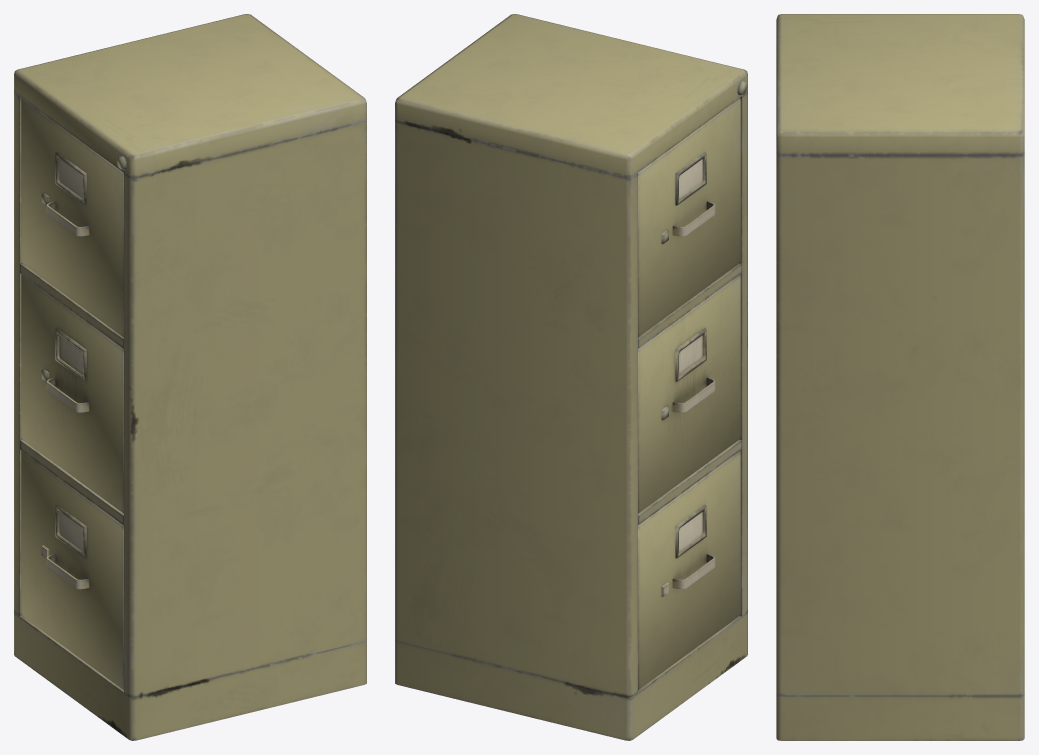
The model's file is SM_Filing_Cabinet_02a.fbx.
The picture shows the model from 3 angles, left to right: view 1: azimuth 30°, elevation 25°; view 2: azimuth 150°, elevation 25°; view 3: azimuth 270°, elevation 25°; orthographic projection. The views are drawn at different scales.
Parts seen in each view (by area): view 1: SM_Filing_Cabinet_02a_LOD0; view 2: SM_Filing_Cabinet_02a_LOD0; view 3: SM_Filing_Cabinet_02a_LOD0.
Part boxes in pixels (left/top/right/bottom): SM_Filing_Cabinet_02a_LOD0: left=14, top=14, right=366, bottom=740; SM_Filing_Cabinet_02a_LOD0: left=395, top=14, right=747, bottom=740; SM_Filing_Cabinet_02a_LOD0: left=776, top=14, right=1024, bottom=740.
Size of the model in its own units: 56.64 by 47.25 by 128.
Materials: 1 (1 with a texture image).
